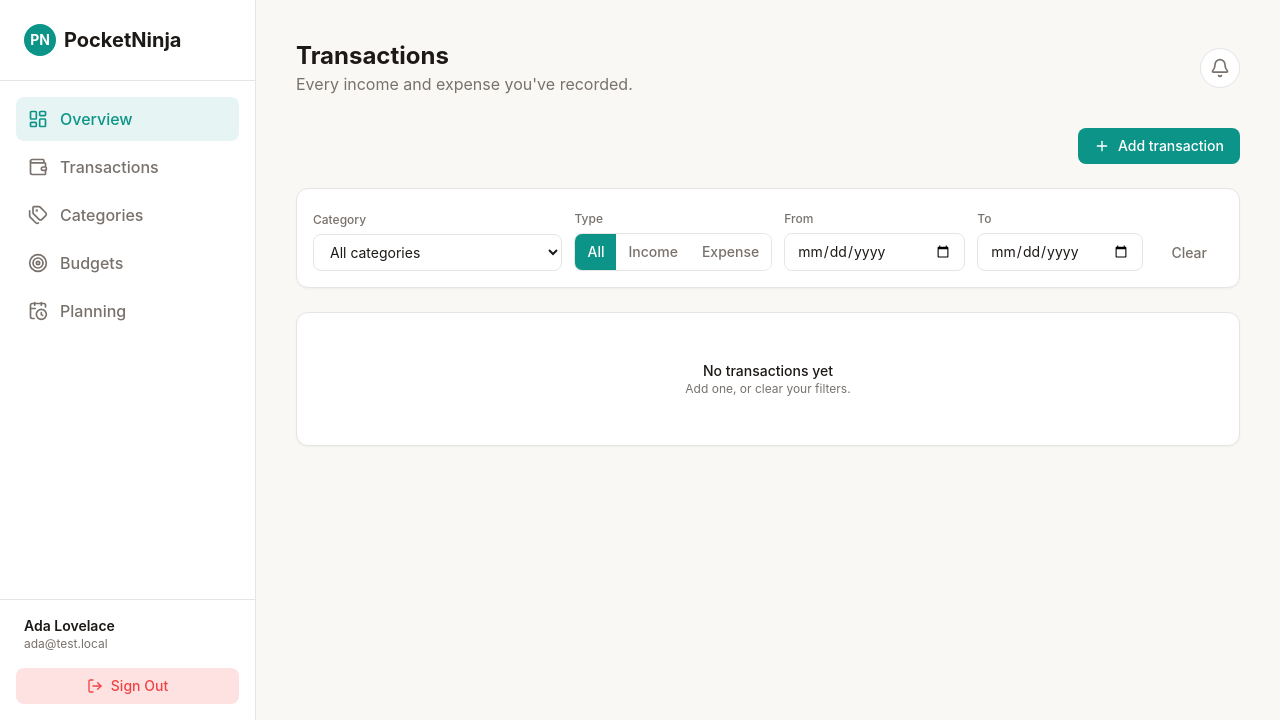
TransactionsPage › Add transaction opens the dialog in add mode
Step 1. Click the button "Add transaction" → (1159, 146), box [1078,128,1240,164]
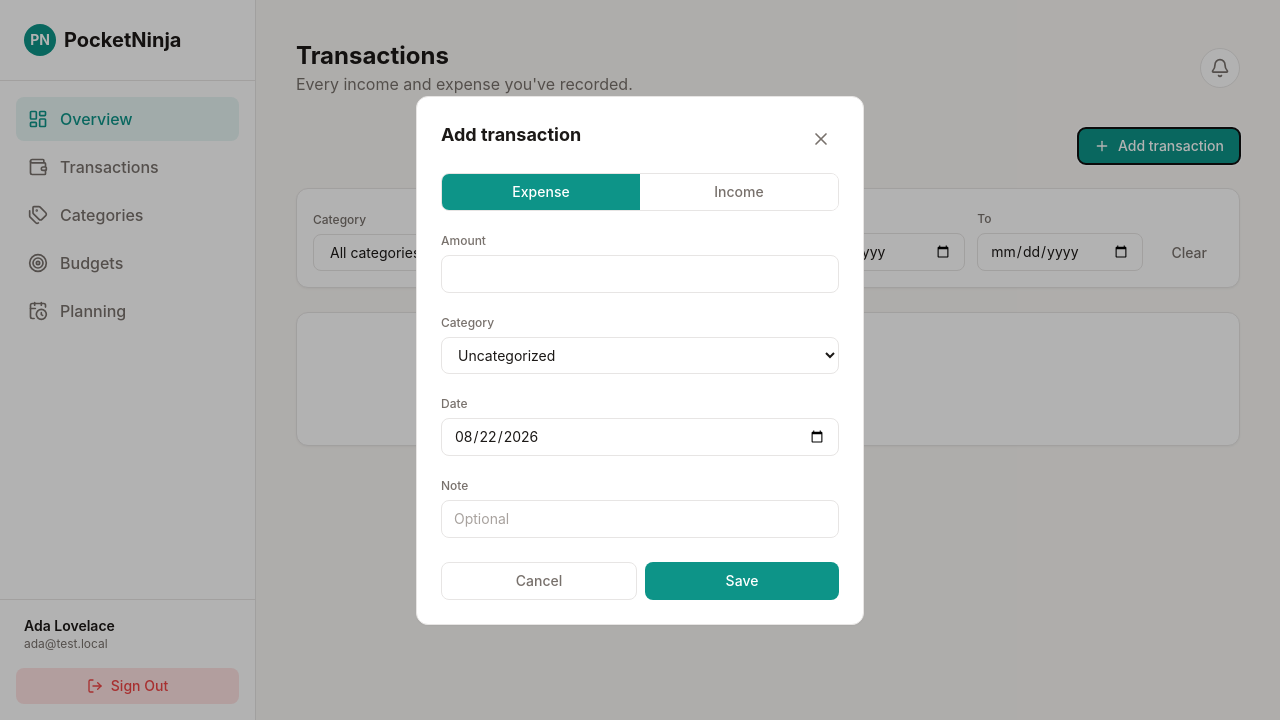
Check: the dialog is shown, box [416,96,864,624]
Check: the heading "Add transaction" is shown, box [441,120,581,148]
